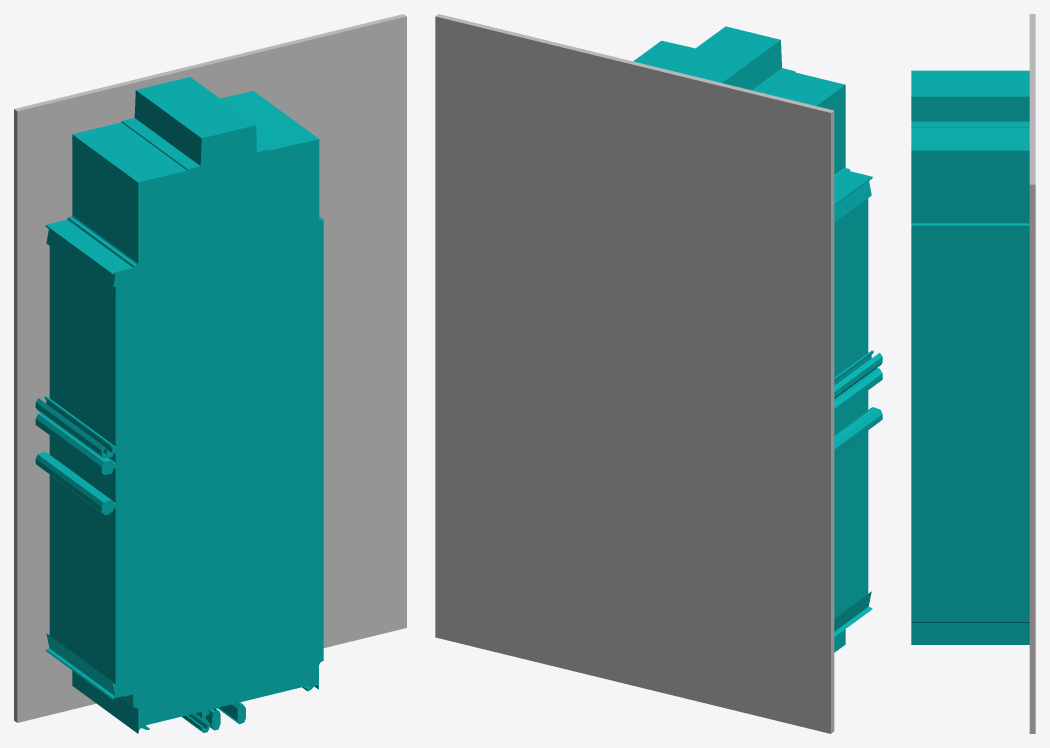
The picture shows the model from 3 angles, left to right: view 1: azimuth 30°, elevation 25°; view 2: azimuth 150°, elevation 25°; view 3: azimuth 270°, elevation 25°; orthographic projection. The views are drawn at different scales.
Parts seen in each view (by area): view 1: world; view 2: world; view 3: world.
Boxes of the visible parts, x1,y1,x2,y2 form: world: (14,14,406,733); world: (435,14,882,733); world: (911,14,1035,733).
Size of the model in its own units: 10.23 by 15.35 by 3.15.
